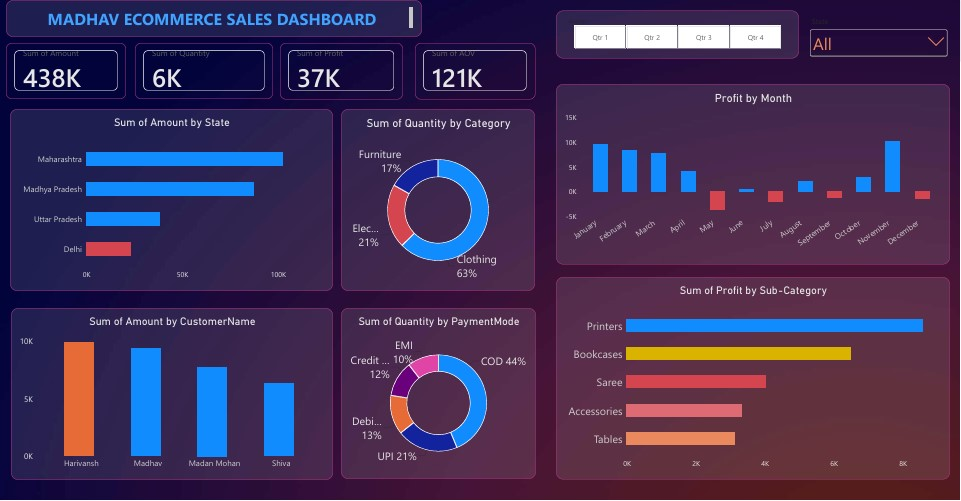

The page's visual inventory and layout, read from the dashboard file:
{"tool":"powerbi","page":{"name":"MES Dashboard","canvas":[1920,1080],"ordinal":0},"visuals":[{"type":"textbox","box":[10,38,832,74],"z":0},{"type":"columnChart","title":"Profit by Month","fields":{"Category":["Orders.Order Date.Variation.Date Hierarchy.Month"],"Y":["Sum(Details.Profit)"]},"box":[1110,206,788.1,360.9],"z":1000},{"type":"barChart","fields":{"Category":["Details.Sub-Category"],"Y":["Sum(Details.Profit)"]},"box":[1109.8,591.7,788.1,405.1],"z":2000},{"type":"donutChart","fields":{"Category":["Details.Category"],"Y":["Sum(Details.Quantity)"]},"box":[680,256,388,364],"z":3000},{"type":"donutChart","fields":{"Category":["Details.PaymentMode"],"Y":["Sum(Details.Quantity)"]},"box":[680,654,390,342],"z":4000},{"type":"cardVisual","fields":{"Data":["Sum(Details.Quantity)"]},"box":[268,124,276,112],"z":5000},{"type":"cardVisual","fields":{"Data":["Sum(Details.Amount)"]},"box":[10,124,240,112],"z":6000},{"type":"cardVisual","fields":{"Data":["Sum(Details.Profit)"]},"box":[558,124,245.5,112.9],"z":7000},{"type":"cardVisual","fields":{"Data":["Sum(Details.AOV)"]},"box":[828,124,240.6,112.9],"z":8000},{"type":"barChart","fields":{"Category":["Orders.State"],"Y":["Sum(Details.Amount)"]},"box":[18,256,646,364],"z":9000},{"type":"columnChart","fields":{"Category":["Orders.CustomerName"],"Y":["Sum(Details.Amount)"]},"box":[20,654,644,344],"z":10000},{"type":"slicer","fields":{"Values":["Orders.Order Date.Variation.Date Hierarchy.Quarter"]},"box":[1109.8,58.9,486.1,95.8],"z":11000},{"type":"slicer","fields":{"Values":["Orders.State"]},"box":[1613.1,73.7,284.8,78.6],"z":12000}]}

Visuals, with their boxes on the page's 1920x1080 design canvas (x1, y1, x2, y2). These are canvas units, not pixel positions in the 961x501 screenshot, which may show the page scaled, cropped or inside an application window:
textbox: bbox(10, 38, 842, 112)
"Profit by Month" columnChart: bbox(1110, 206, 1898, 567)
barChart - Details.Sub-Category x Sum(Details.Profit): bbox(1110, 592, 1898, 997)
donutChart - Details.Category x Sum(Details.Quantity): bbox(680, 256, 1068, 620)
donutChart - Details.PaymentMode x Sum(Details.Quantity): bbox(680, 654, 1070, 996)
cardVisual - Sum(Details.Quantity): bbox(268, 124, 544, 236)
cardVisual - Sum(Details.Amount): bbox(10, 124, 250, 236)
cardVisual - Sum(Details.Profit): bbox(558, 124, 804, 237)
cardVisual - Sum(Details.AOV): bbox(828, 124, 1069, 237)
barChart - Orders.State x Sum(Details.Amount): bbox(18, 256, 664, 620)
columnChart - Orders.CustomerName x Sum(Details.Amount): bbox(20, 654, 664, 998)
slicer - Orders.Order Date.Variation.Date Hierarchy.Quarter: bbox(1110, 59, 1596, 155)
slicer - Orders.State: bbox(1613, 74, 1898, 152)
